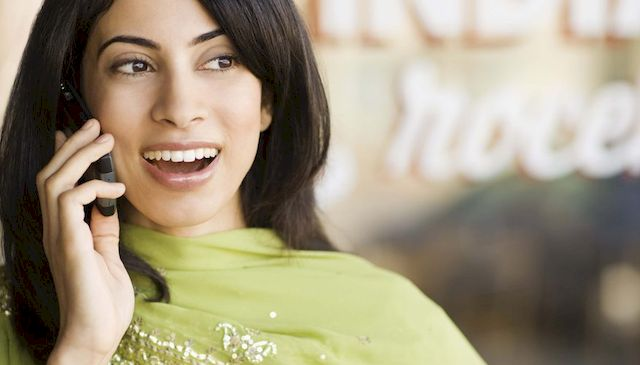phone: (50, 85, 122, 217)
talk: (35, 17, 262, 313)
